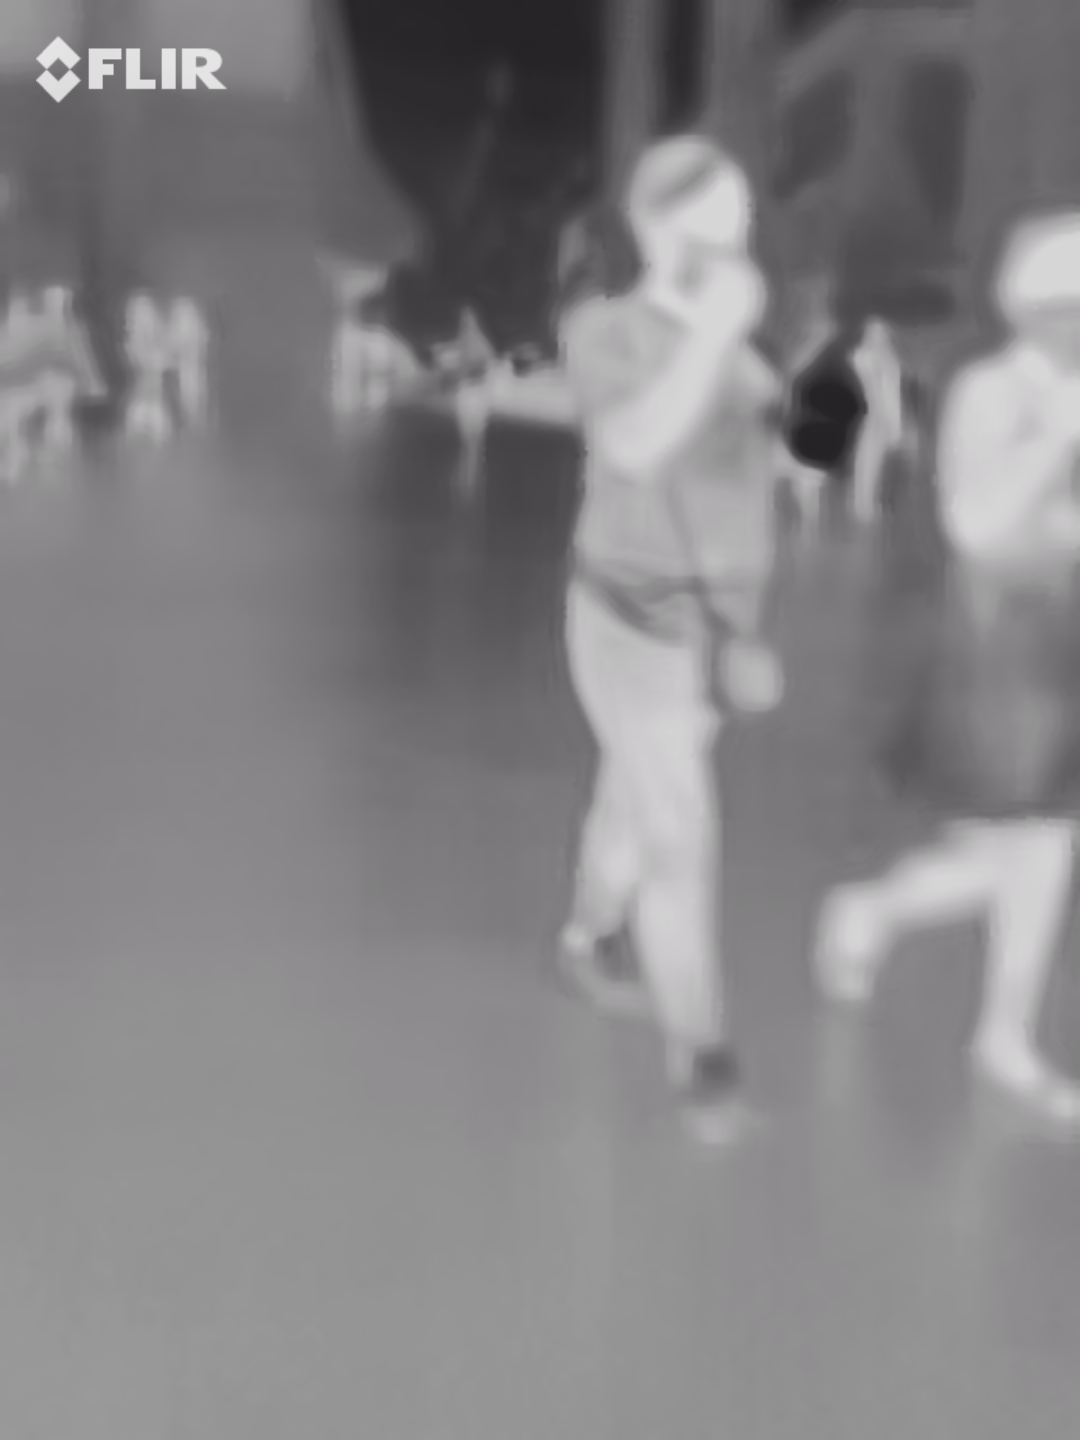head: (624, 139, 762, 307)
